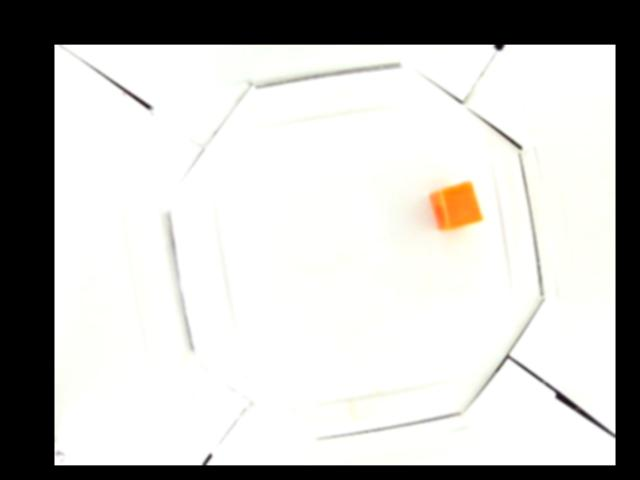Carrot: (431, 180, 483, 231)
